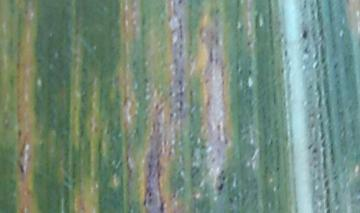tarspot: (301, 29, 309, 41), (216, 184, 225, 193), (148, 191, 153, 199)
